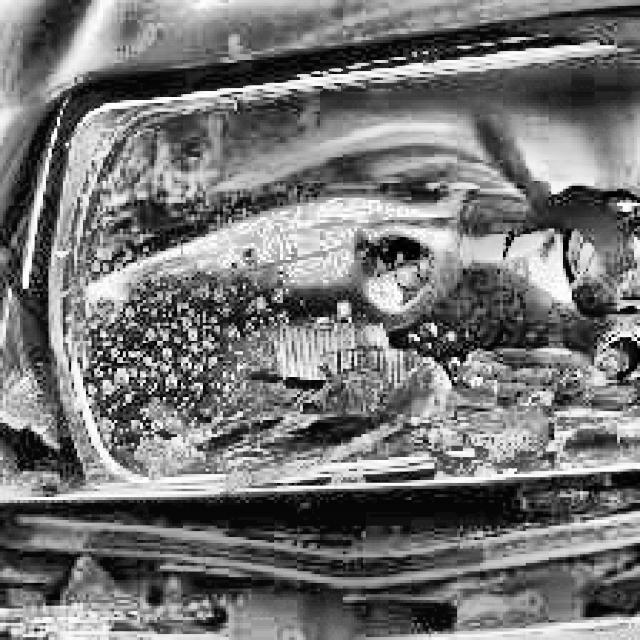head_lamp: (56, 106, 628, 457)
